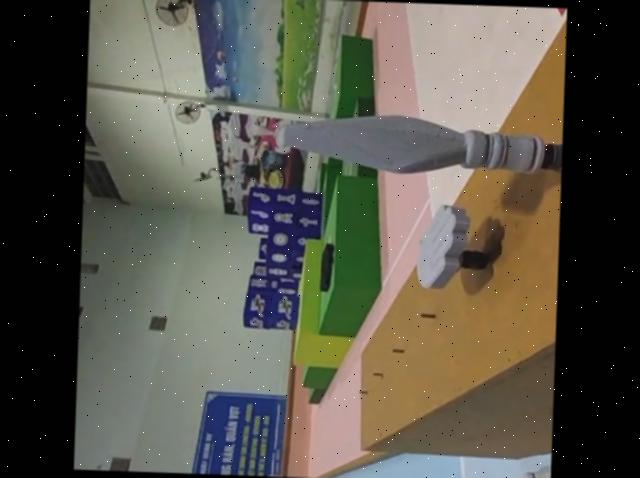Hand: (411, 206, 487, 294)
Sph: (274, 109, 564, 187)
